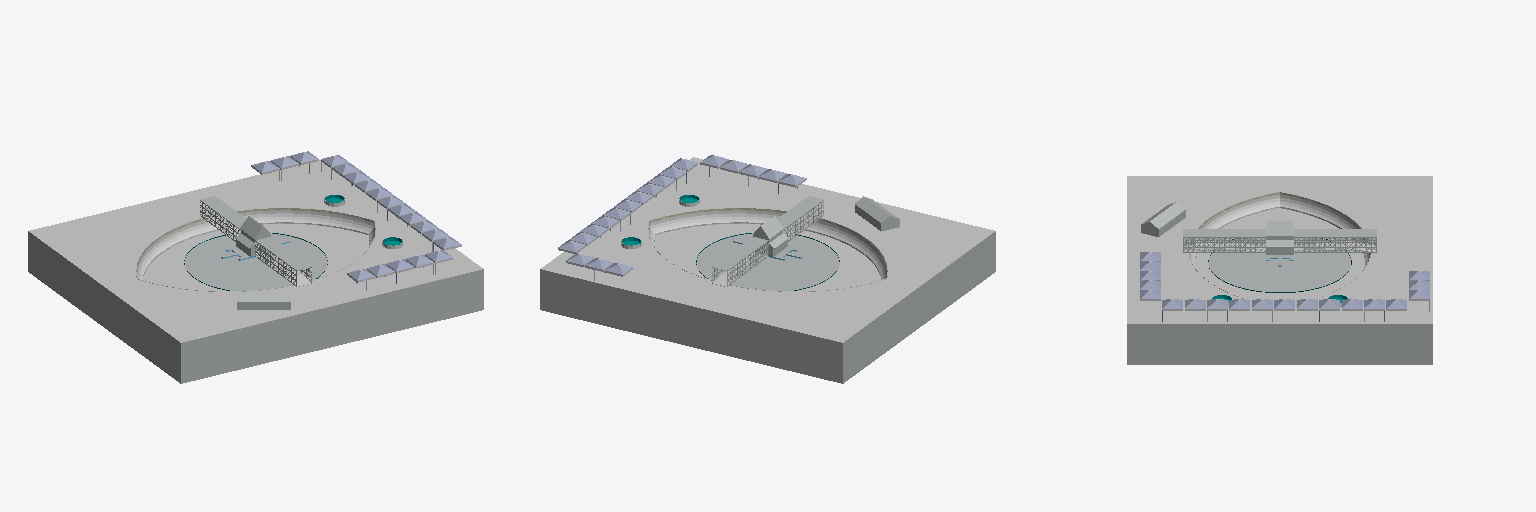
The picture shows the model from 3 angles: view 1: azimuth 30°, elevation 25°; view 2: azimuth 150°, elevation 25°; view 3: azimuth 270°, elevation 25°; orthographic projection.
Visible parts, largest first — view 1: mesh_10, mesh_4, mesh_8, mesh_2, mesh_6, mesh_1, mesh_5; view 2: mesh_10, mesh_4, mesh_8, mesh_2, mesh_6, mesh_1, mesh_5; view 3: mesh_4, mesh_10, mesh_2, mesh_8, mesh_6, mesh_11, mesh_1, mesh_5.
Part boxes in pixels (x1,y1,x2,y2): mesh_10: (28, 196, 483, 383); mesh_4: (29, 160, 482, 342); mesh_8: (143, 224, 369, 290); mesh_2: (252, 151, 461, 290); mesh_6: (136, 210, 374, 279); mesh_1: (251, 152, 461, 282); mesh_5: (136, 208, 375, 291); mesh_10: (540, 196, 995, 383); mesh_4: (541, 157, 994, 342); mesh_8: (654, 224, 880, 290); mesh_2: (558, 155, 805, 280); mesh_6: (649, 210, 887, 279); mesh_1: (558, 155, 806, 276); mesh_5: (648, 208, 887, 291); mesh_4: (1127, 176, 1432, 323); mesh_10: (1127, 202, 1432, 364); mesh_2: (1140, 252, 1429, 321); mesh_8: (1195, 208, 1364, 305); mesh_6: (1189, 194, 1370, 267); mesh_11: (1184, 243, 1375, 251); mesh_1: (1140, 252, 1429, 310); mesh_5: (1188, 192, 1371, 306).
Size of the model in its own units: 117 by 25.89 by 102.
12 materials, 1 textured.